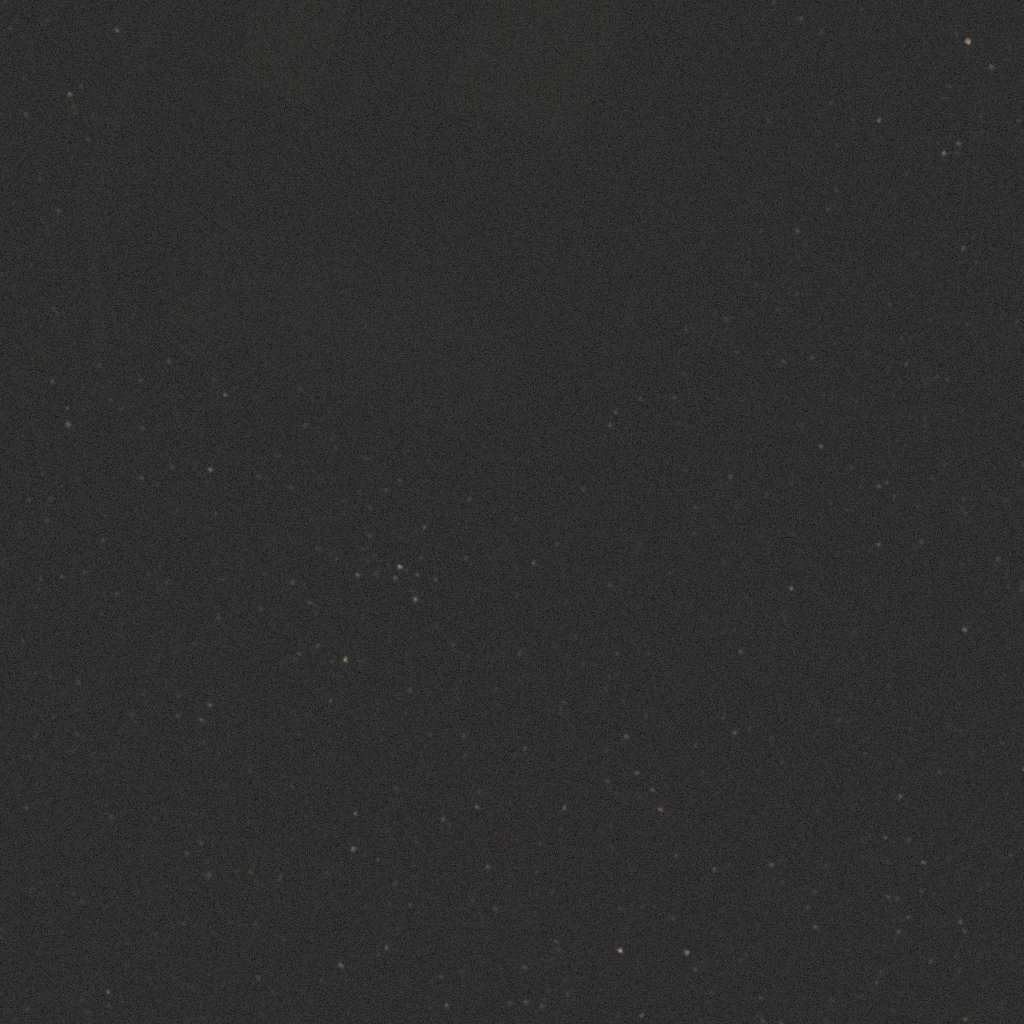proba_3_ocs: (83, 0, 769, 537)
